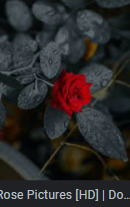RedRose: (50, 66, 95, 119)
